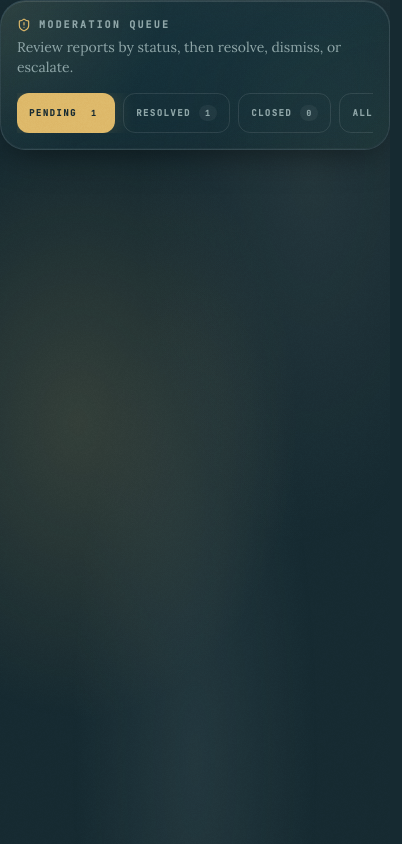
Scenario: ReportsTab › filters reports by status
What coordinates should you click on to do the following:
click the button "Resolved 1"
I would click on:
 (177, 113)
Its box is [123,93,230,133].
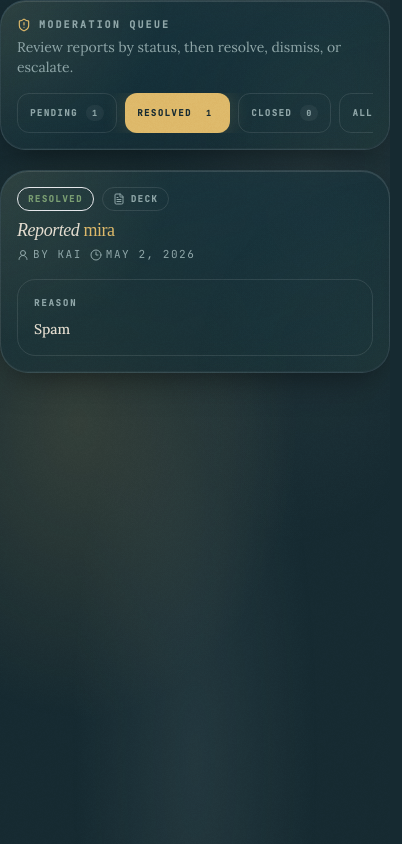
Expected: the text "mira" is shown, [83,220,115,240]
